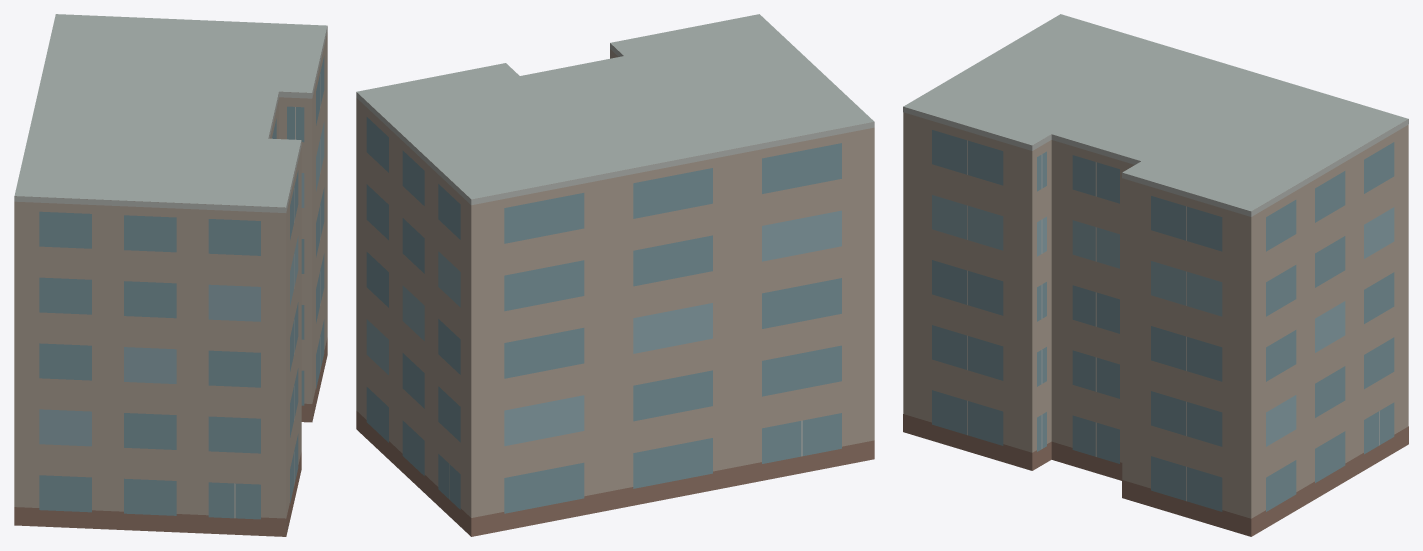
The model's file is survey-upis-32965795.glb.
3 views of the same model, side by side, from view 1: azimuth 30°, elevation 25°; view 2: azimuth 150°, elevation 25°; view 3: azimuth 270°, elevation 25° (orthographic). The views are drawn at different scales.
Parts seen in each view (by area): view 1: survey-upis-32965795.tmp; view 2: survey-upis-32965795.tmp; view 3: survey-upis-32965795.tmp.
Part boxes in pixels (left/top/right/bottom): survey-upis-32965795.tmp: left=14, top=14, right=327, bottom=536; survey-upis-32965795.tmp: left=356, top=14, right=874, bottom=536; survey-upis-32965795.tmp: left=903, top=14, right=1408, bottom=536.
Bounding box in the file's own units: 18.46 × 14.18 × 19.97.
